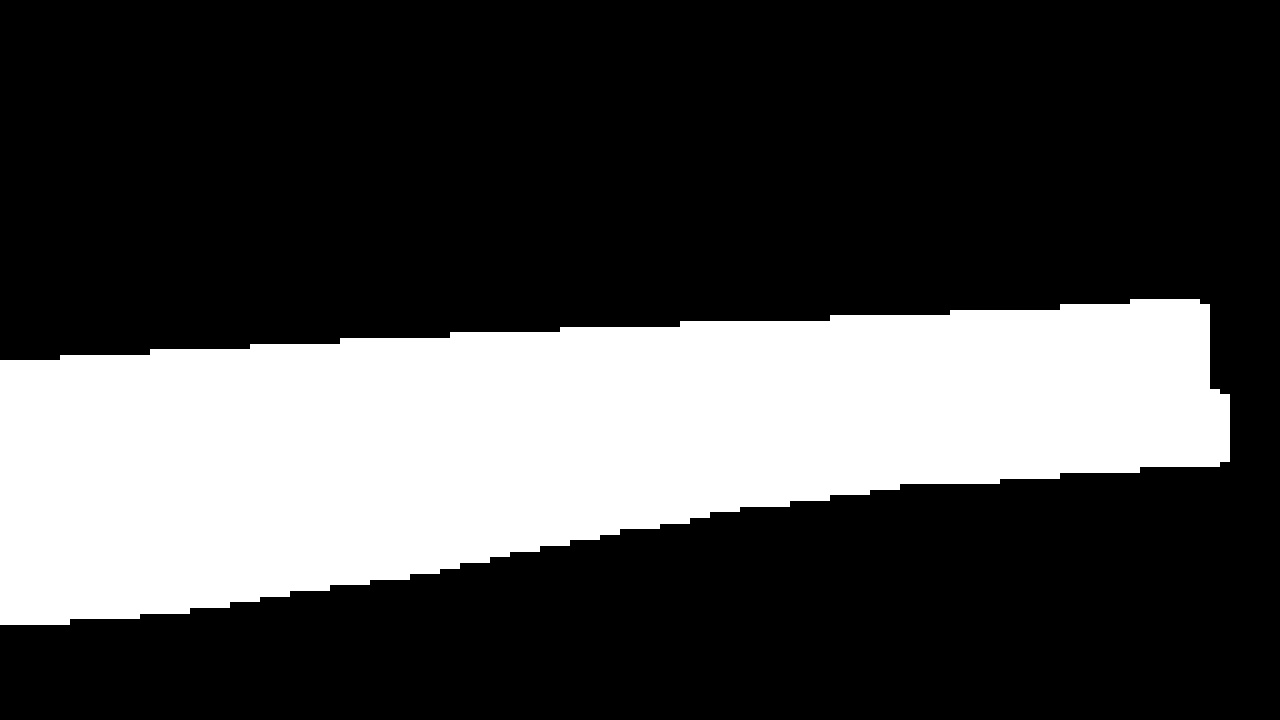Turbine: (20, 264, 1238, 640)
